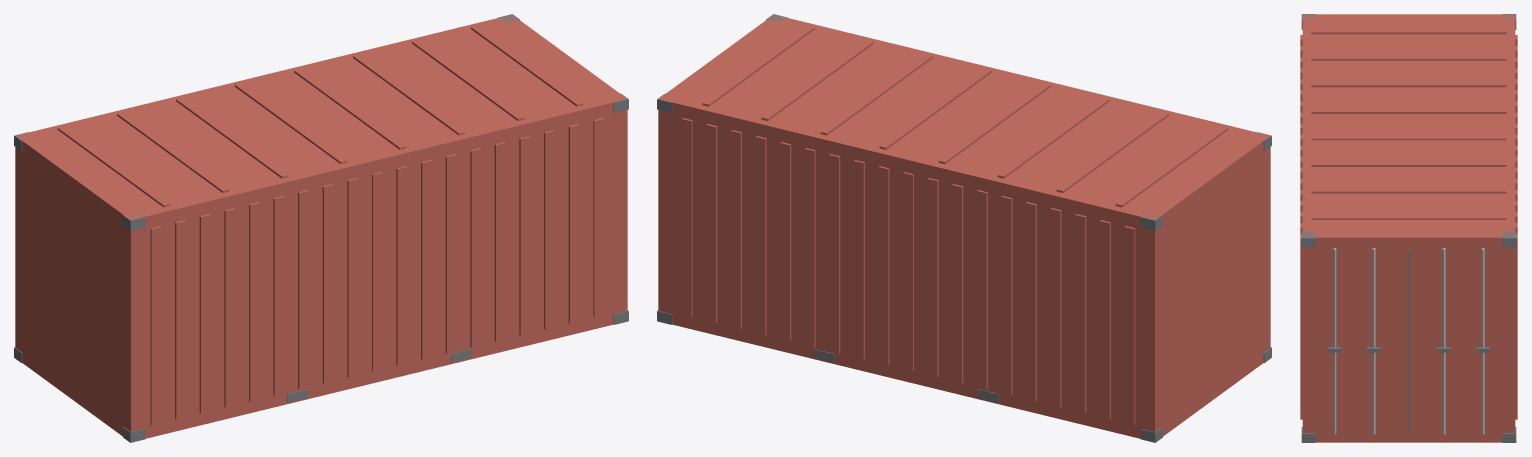
File: container_red.glb
The picture shows the model from 3 angles, left to right: view 1: azimuth 30°, elevation 25°; view 2: azimuth 150°, elevation 25°; view 3: azimuth 270°, elevation 25°; orthographic projection. The views are drawn at different scales.
Visible parts, largest first — view 1: body; view 2: body; view 3: body.
Part boxes in pixels (bbox=[...]): body: bbox=[14, 14, 628, 442]; body: bbox=[657, 14, 1271, 442]; body: bbox=[1300, 14, 1517, 442].
Size of the model in its own units: 6.15 by 2.61 by 2.49.
